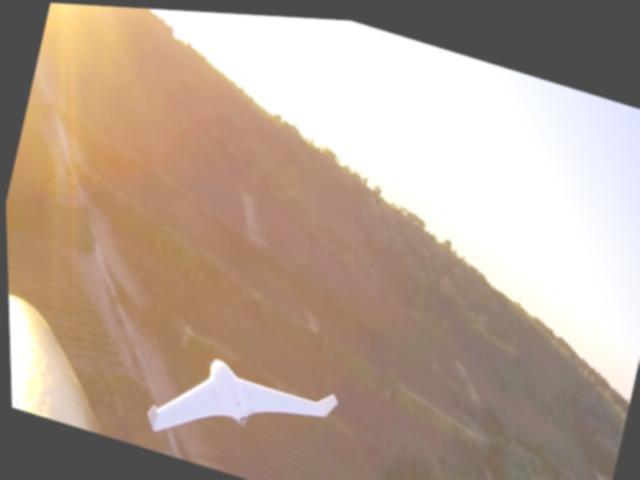plane: (139, 336, 340, 480)
